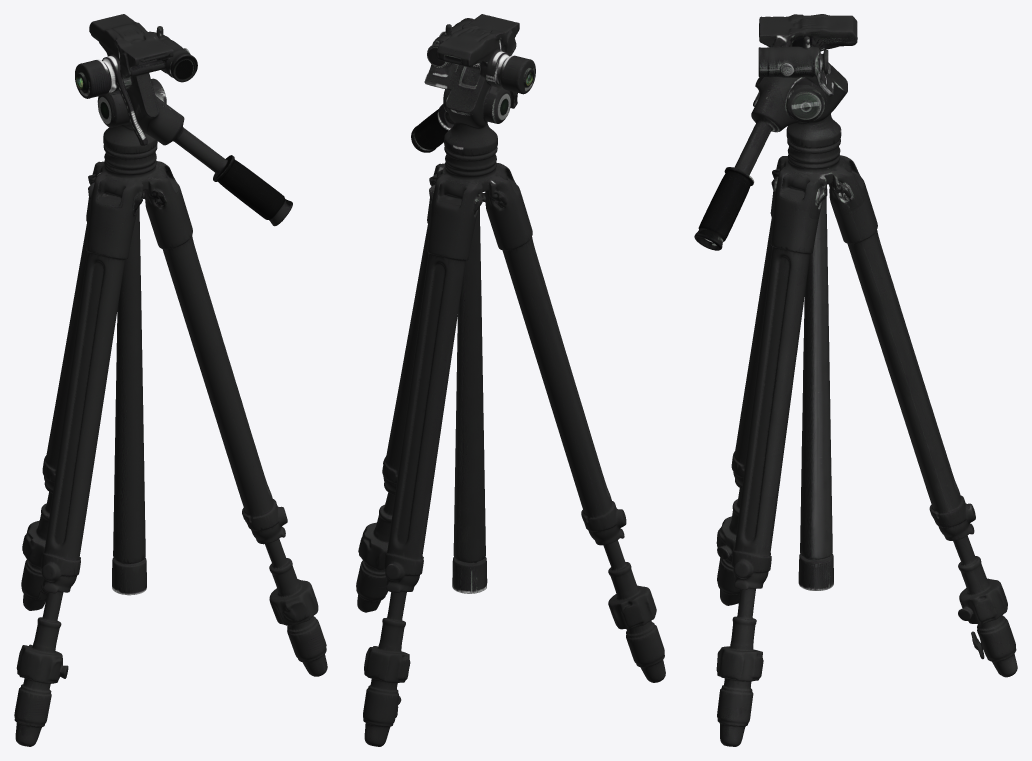
File: tripod.glb
The picture shows the model from 3 angles, left to right: view 1: azimuth 30°, elevation 25°; view 2: azimuth 150°, elevation 25°; view 3: azimuth 270°, elevation 25°; orthographic projection.
Bounding box in the file's own units: 0.9438 × 1.9 × 0.8529.
Materials: 1 (1 with a texture image).
